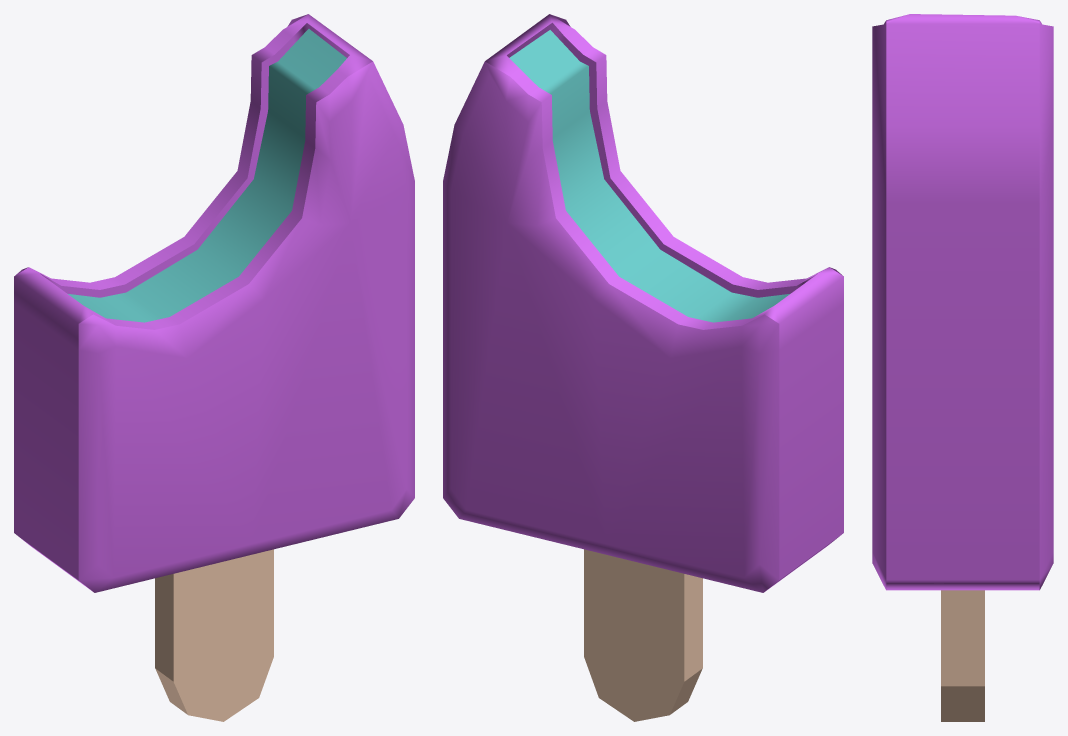
Rendered from HandAcc_3.fbx.
3 renders of one model, left to right at view 1: azimuth 30°, elevation 25°; view 2: azimuth 150°, elevation 25°; view 3: azimuth 270°, elevation 25°, orthographic. The views are drawn at different scales.
Parts seen in each view (by area): view 1: HandAcc_3; view 2: HandAcc_3; view 3: HandAcc_3.
Part boxes in pixels (<box>): HandAcc_3: <box>14,14,414,721</box>; HandAcc_3: <box>443,14,843,721</box>; HandAcc_3: <box>872,14,1053,721</box>.
Size of the model in its own units: 17.08 by 31.48 by 6.7.
